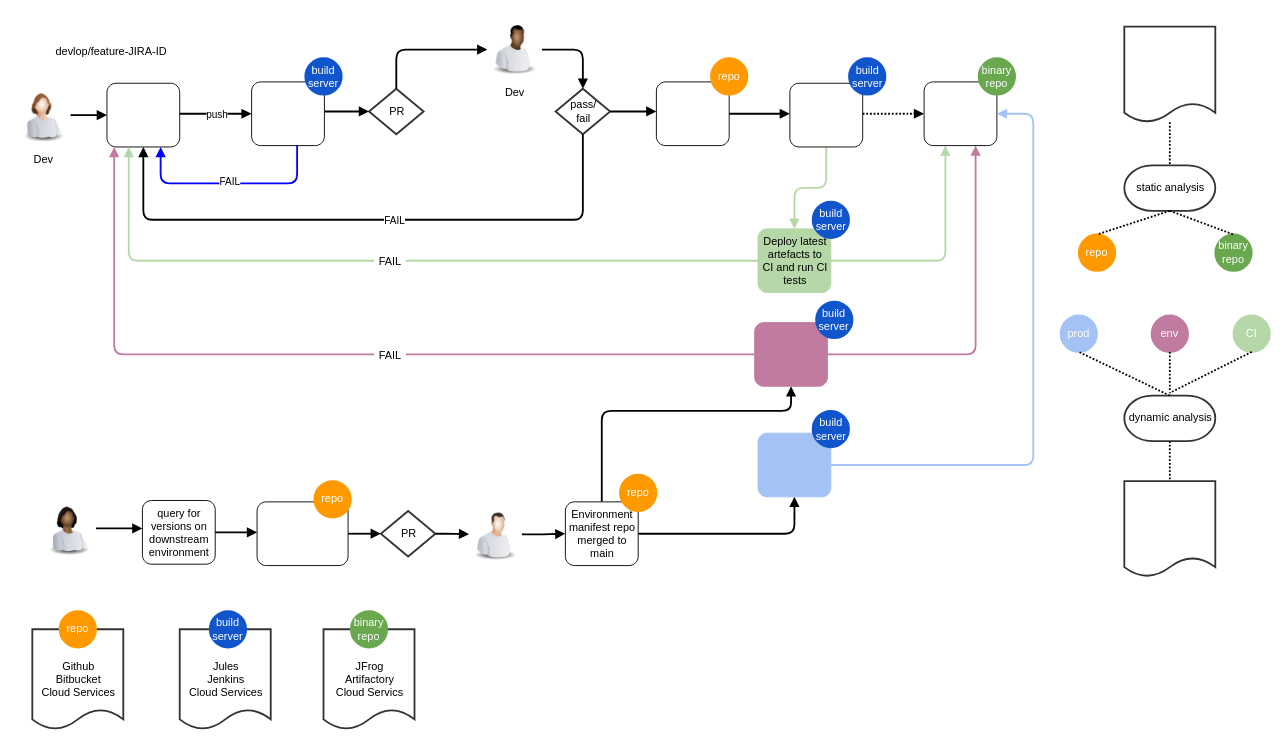
Image size: 1286x745. Some labels were removed from this diagram. Each missing label, with the centre of its shape:
build & test & release into artifactory: (826,114)
build & test on DEV: (287,113)
Deploy artefacts to UAT/NFT and run tests: (790,354)
Dev/Engineer: (68,528)
Edit environment manifest: (302,533)
local dev & test: (143,114)
merge into main: (692,113)
push into artifactory & tagged with git hash: (960,113)
Review: (495,534)
SecurityHub Tenable SysdigSecure: (1169,528)
semver tag artefacts & deploy to production: (794,464)
SonarQube ScanCode Anchore X-Ray: (1169,74)
